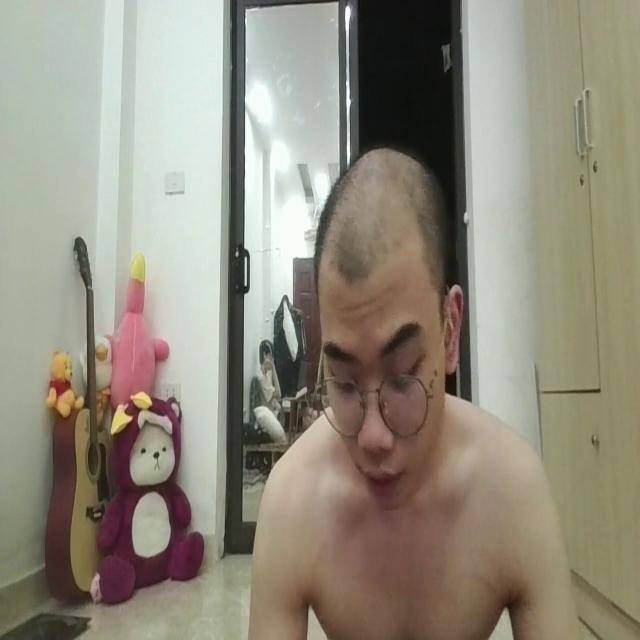extra_person: (249, 320, 301, 445)
student: (224, 113, 586, 640)
